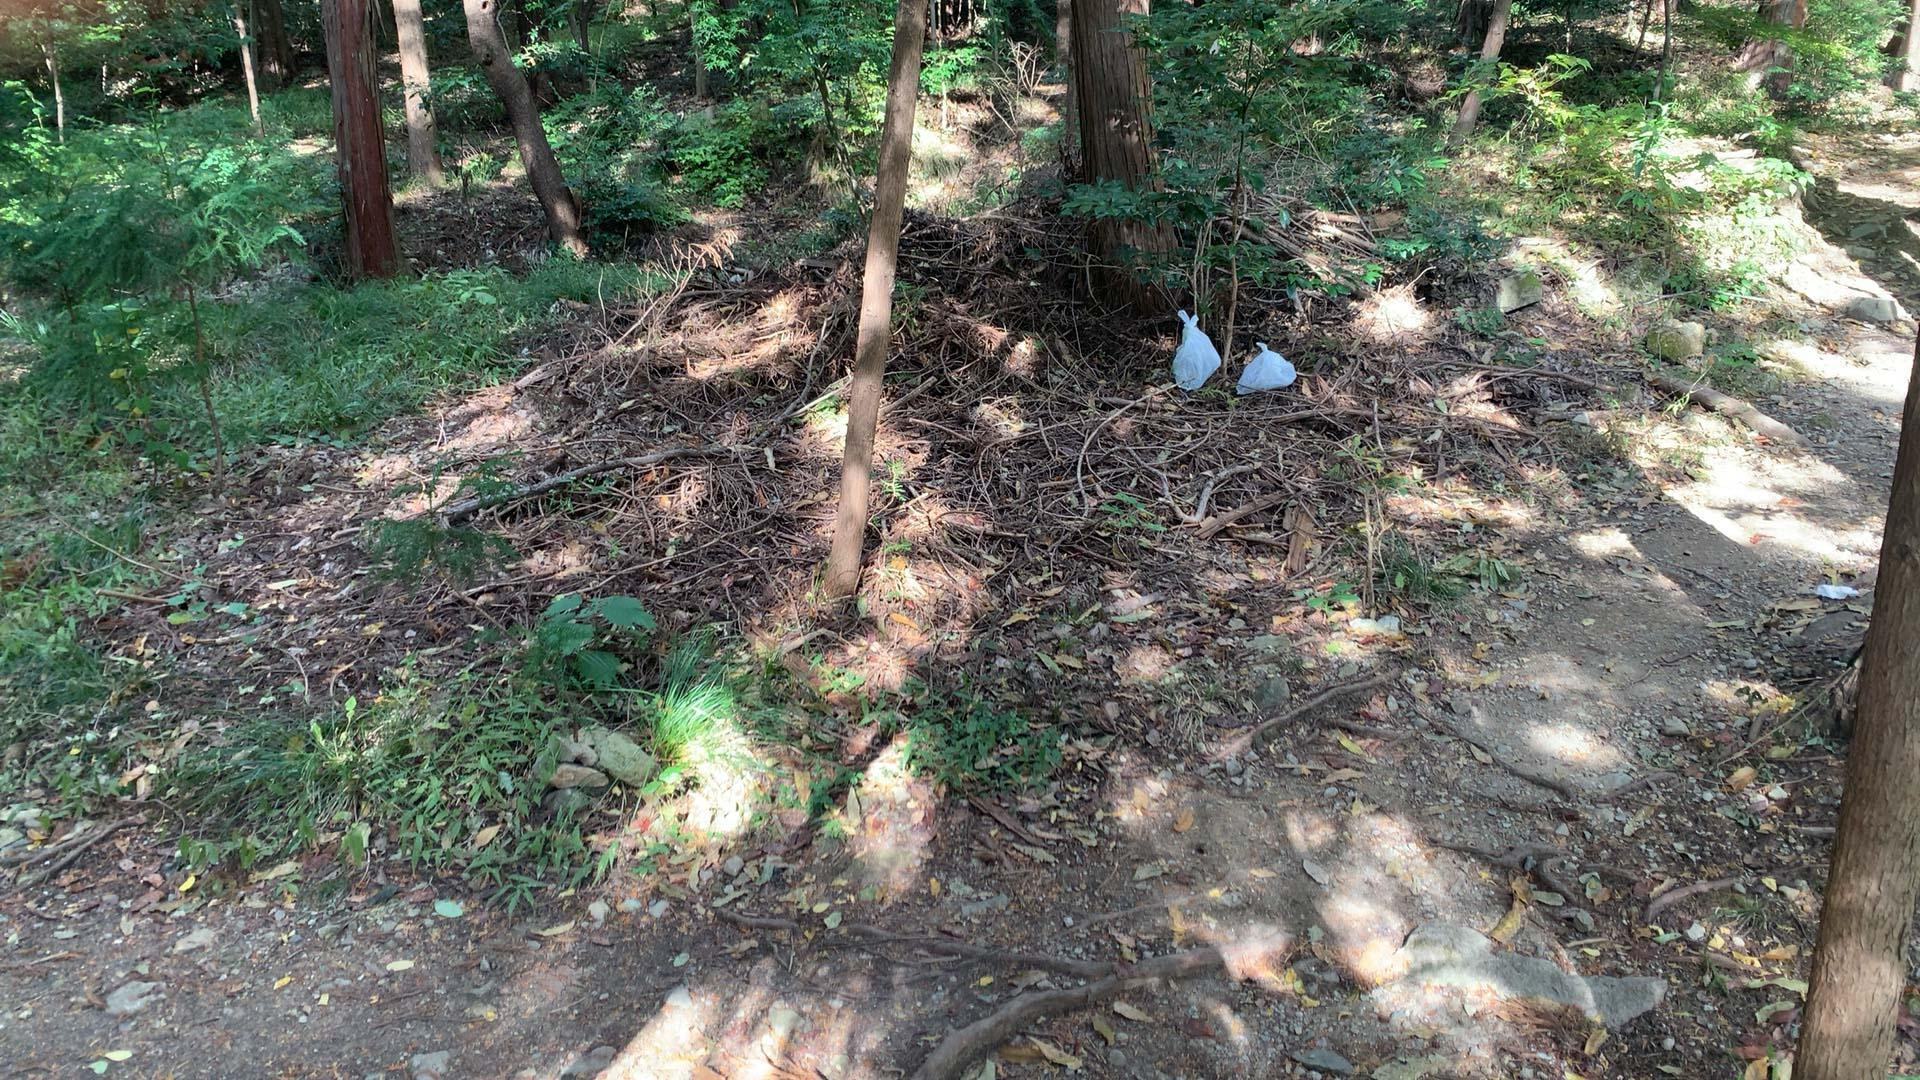white_bag: (1168, 303, 1222, 393), (1233, 336, 1302, 394)
